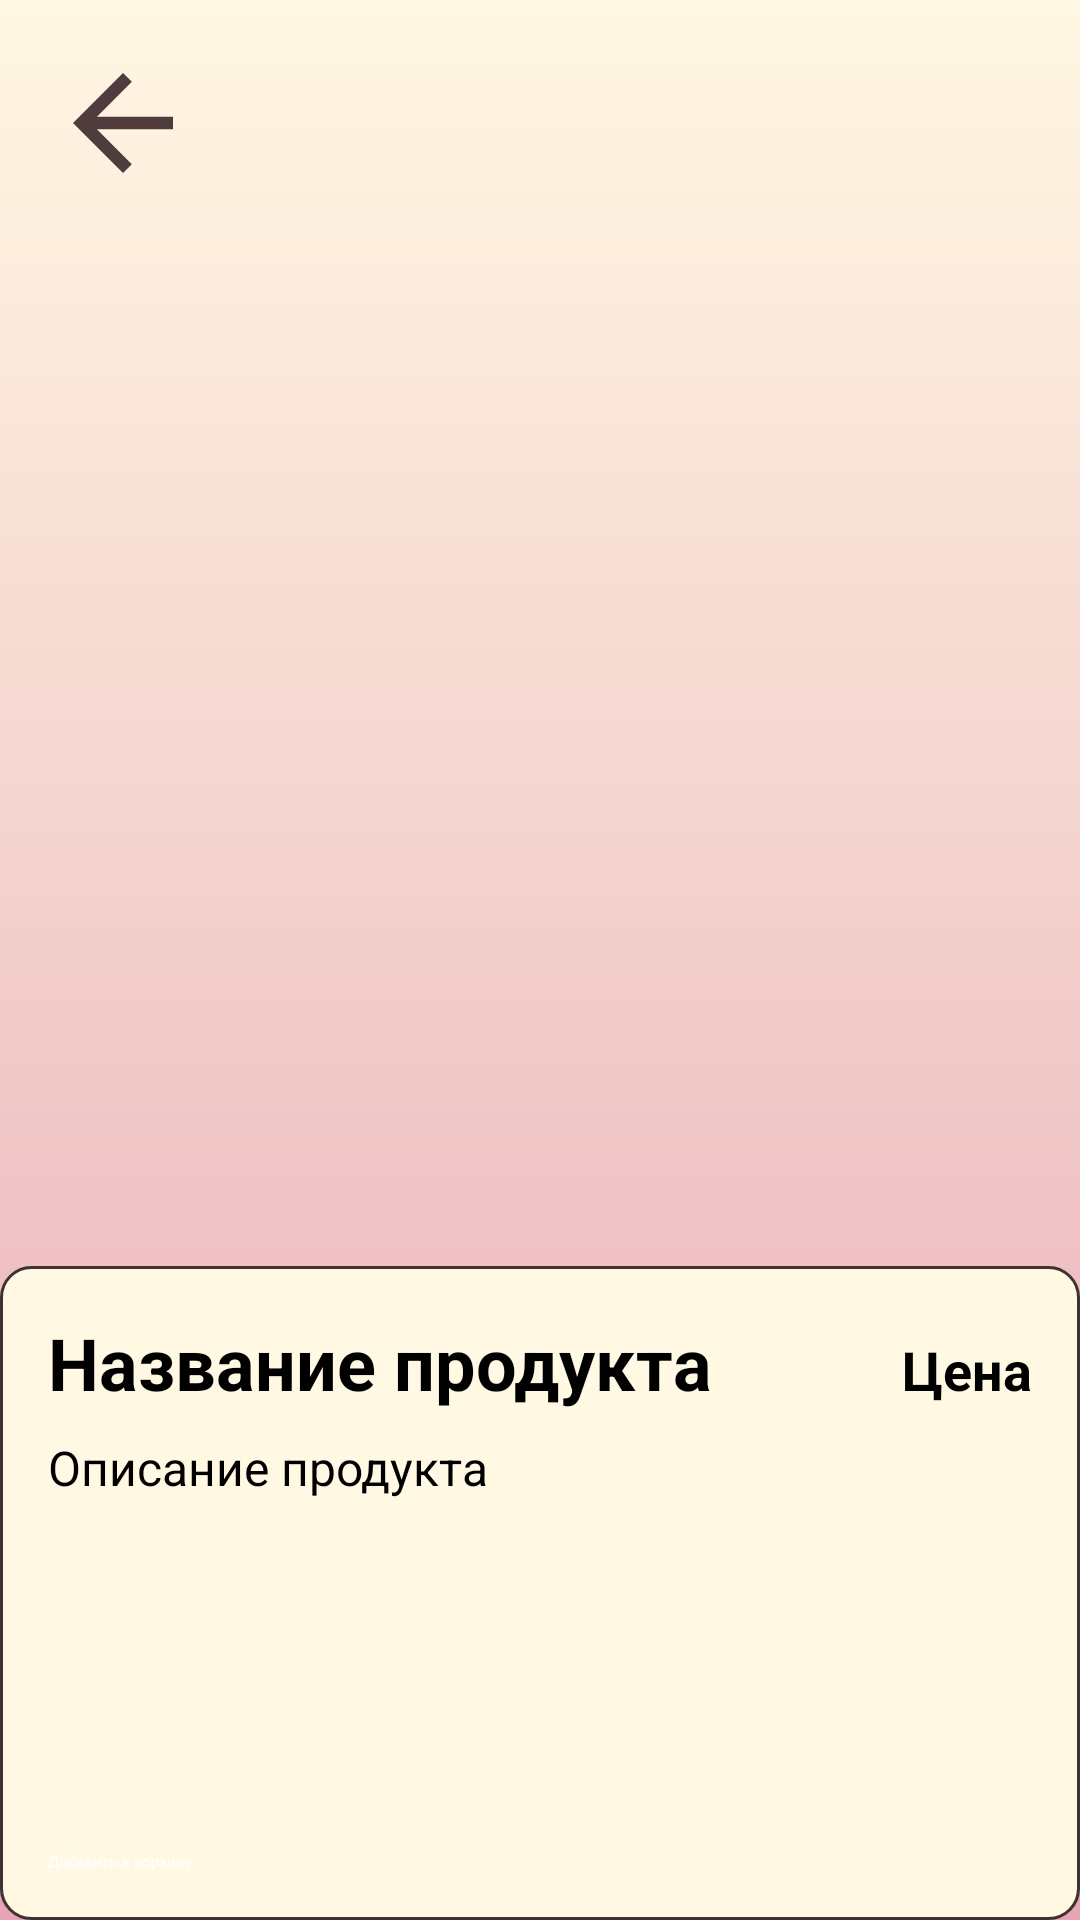

Screen size 1080*1920. Icon name, then its box in pixels as (x1=x1, y1=y1, x2=x2, y2=y2):
Back: (x1=73, y1=73, x2=173, y2=173)
